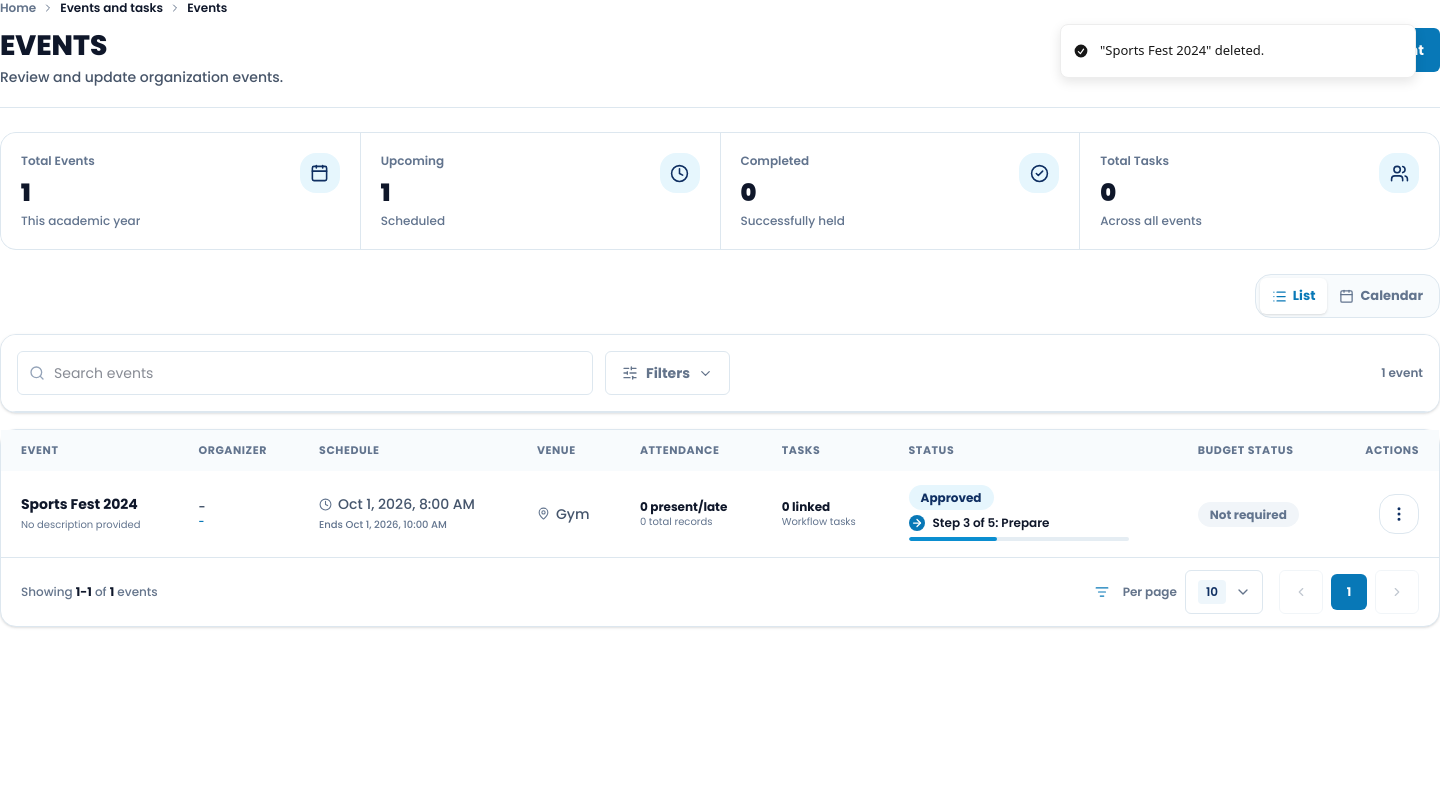
Test case: EventsPage delete › shows the server message when the event cannot be deleted
This screenshot has width=1440, height=810.
Click the button named "Actions for Sports Fest 2024": (1399, 514) [1379,494,1419,534]
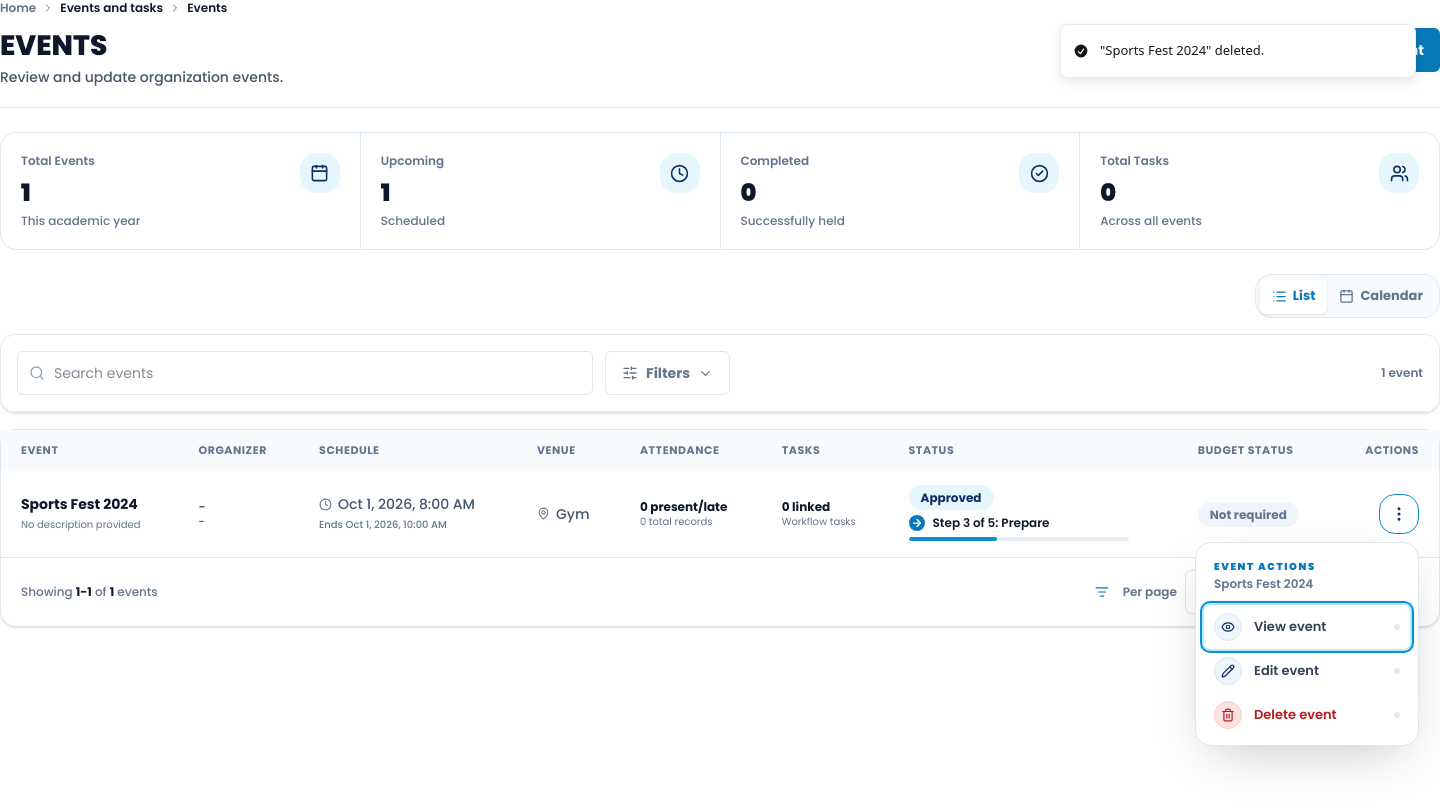
Click the menu item "Delete event": (1307, 714) [1204,692,1410,736]
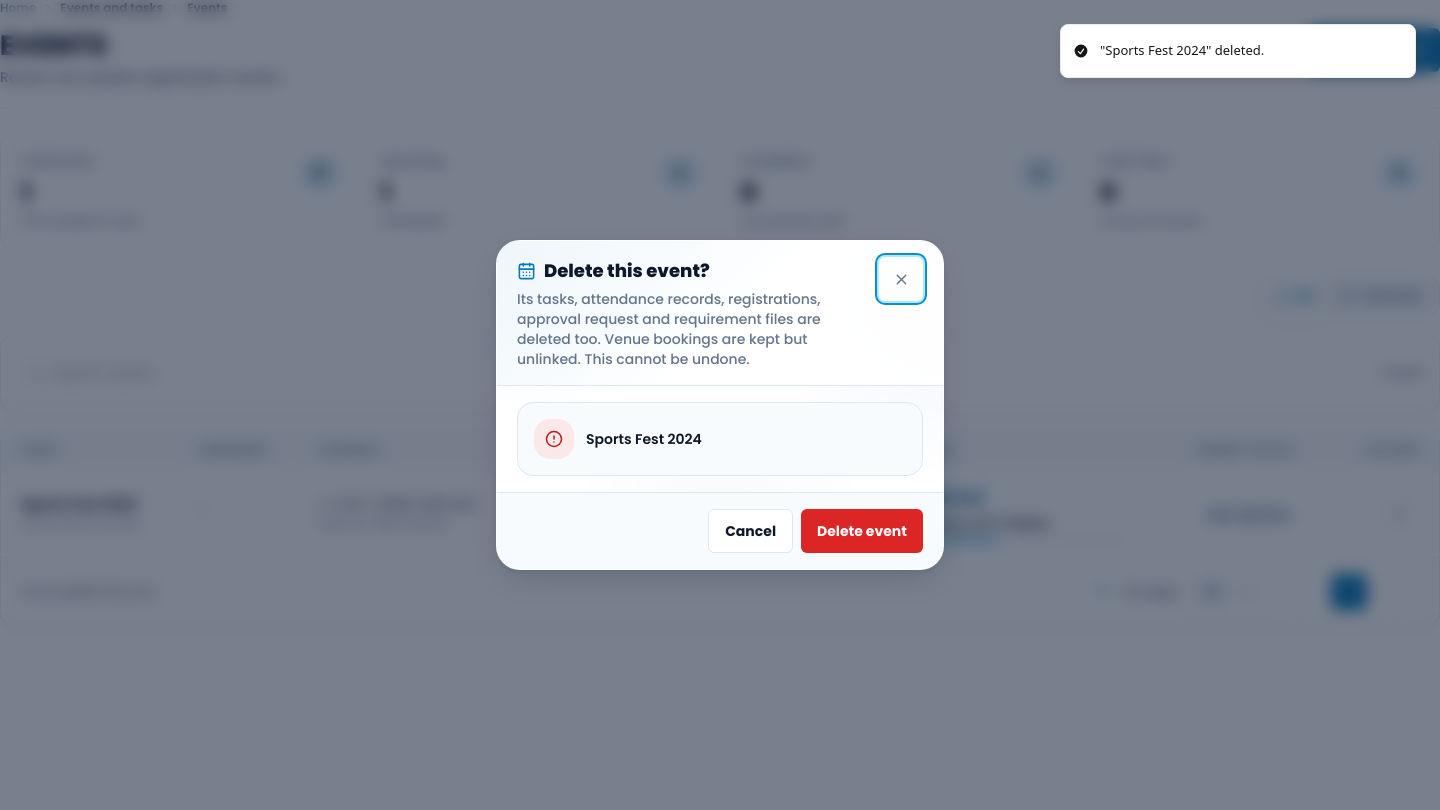
Click the button "Delete event": (862, 531) [801,509,923,553]
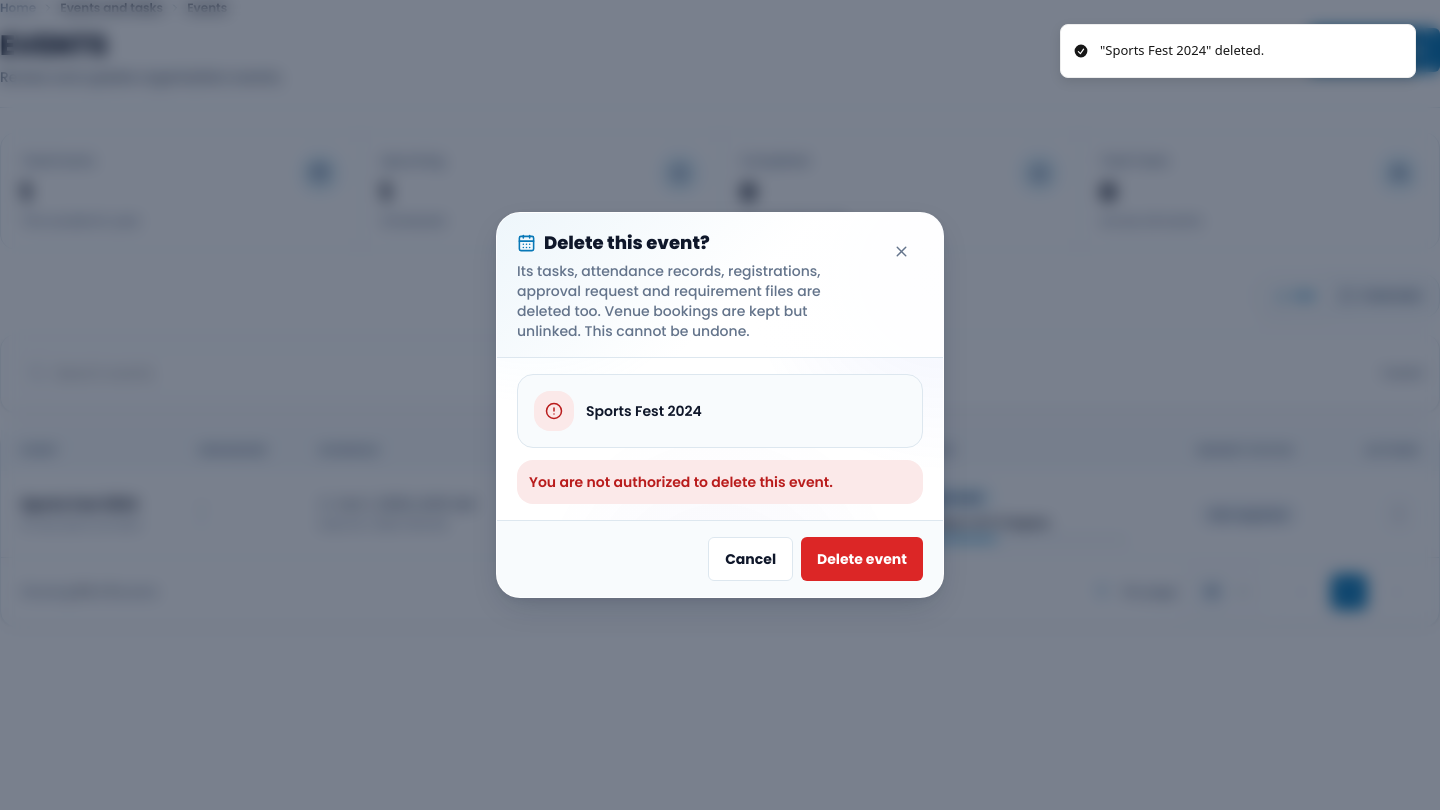
Now the message reads "You are not authorized to delete this event.", box [529,472,833,492]
